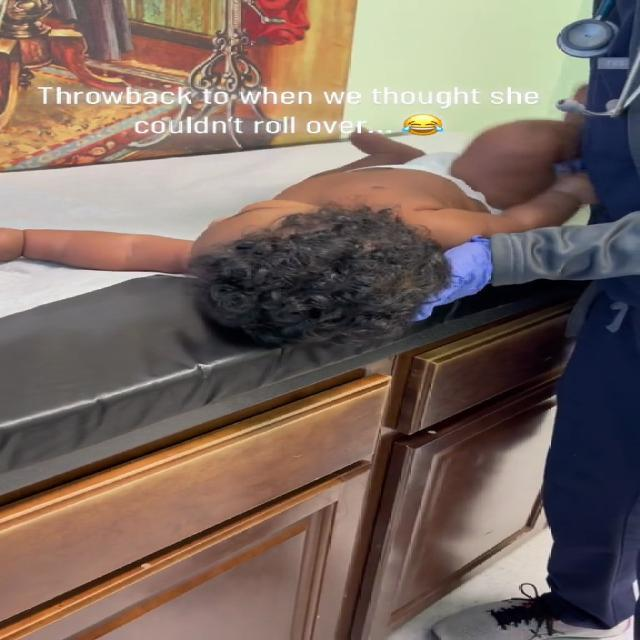baby: (0, 108, 607, 341)
